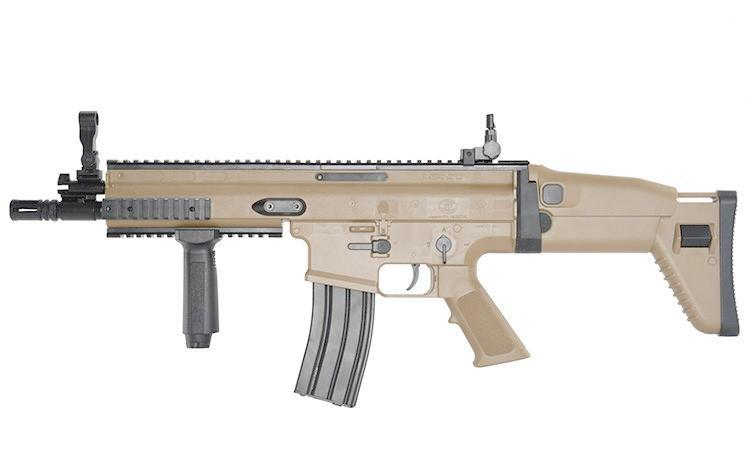gun: (0, 110, 742, 409)
